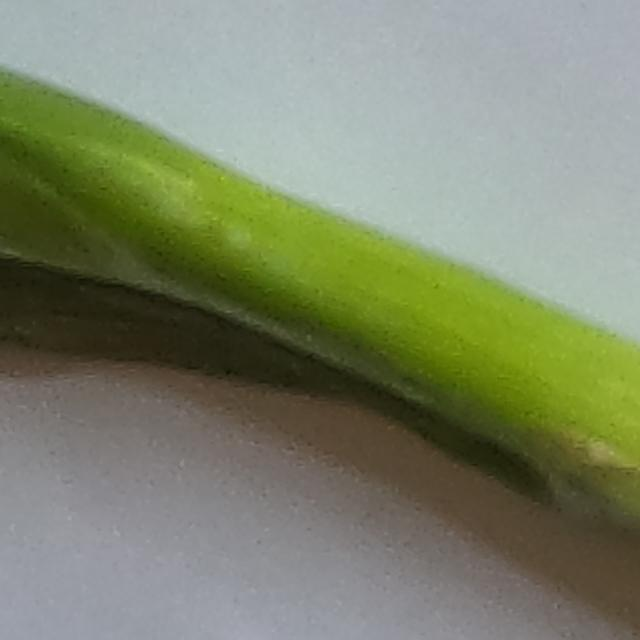green_onion: (0, 66, 640, 558)
